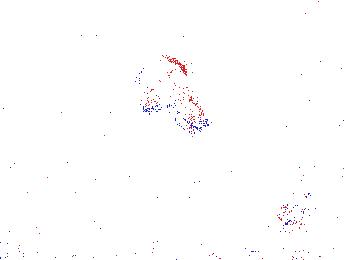flame jellyfish: (130, 56, 210, 135), (280, 161, 333, 223)
